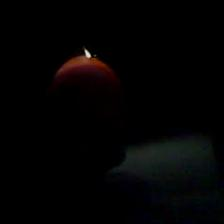fertile: (44, 54, 130, 160)
